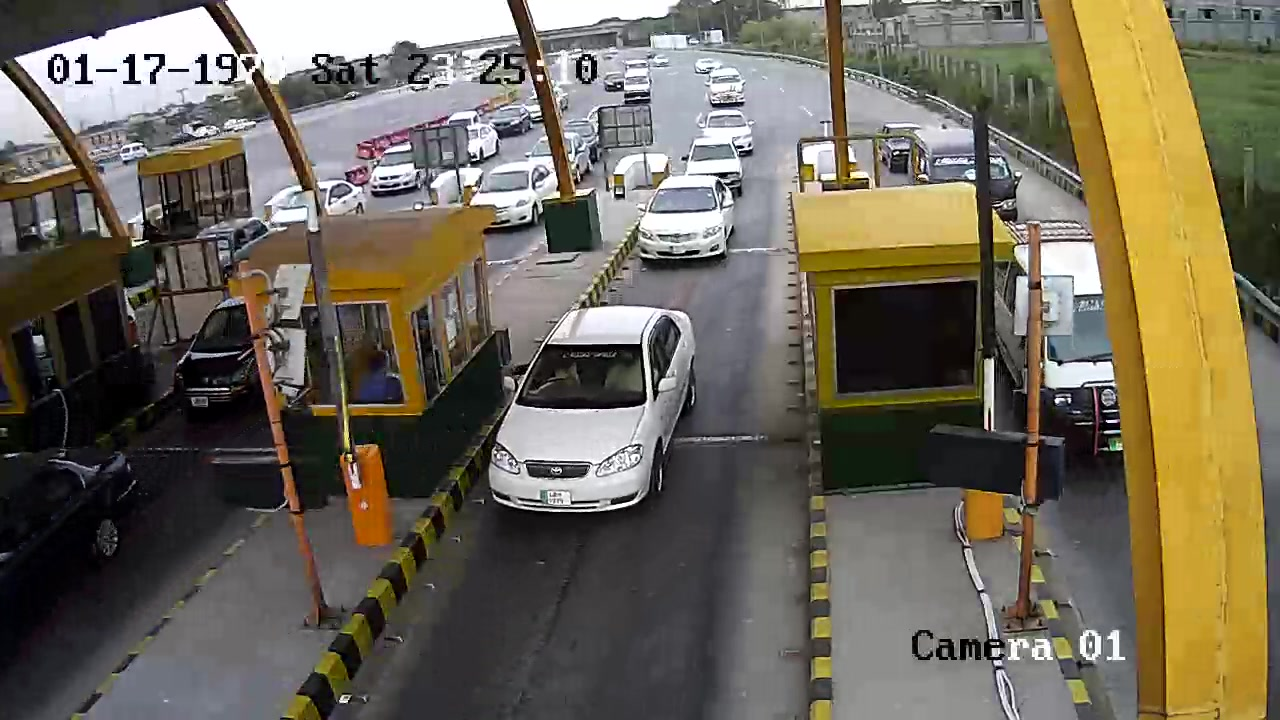F1: (489, 301, 700, 526)
